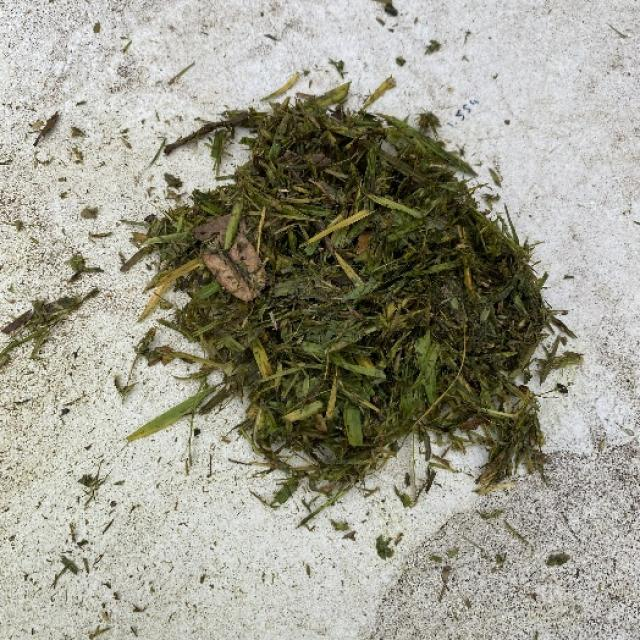organik: (167, 100, 554, 488)
